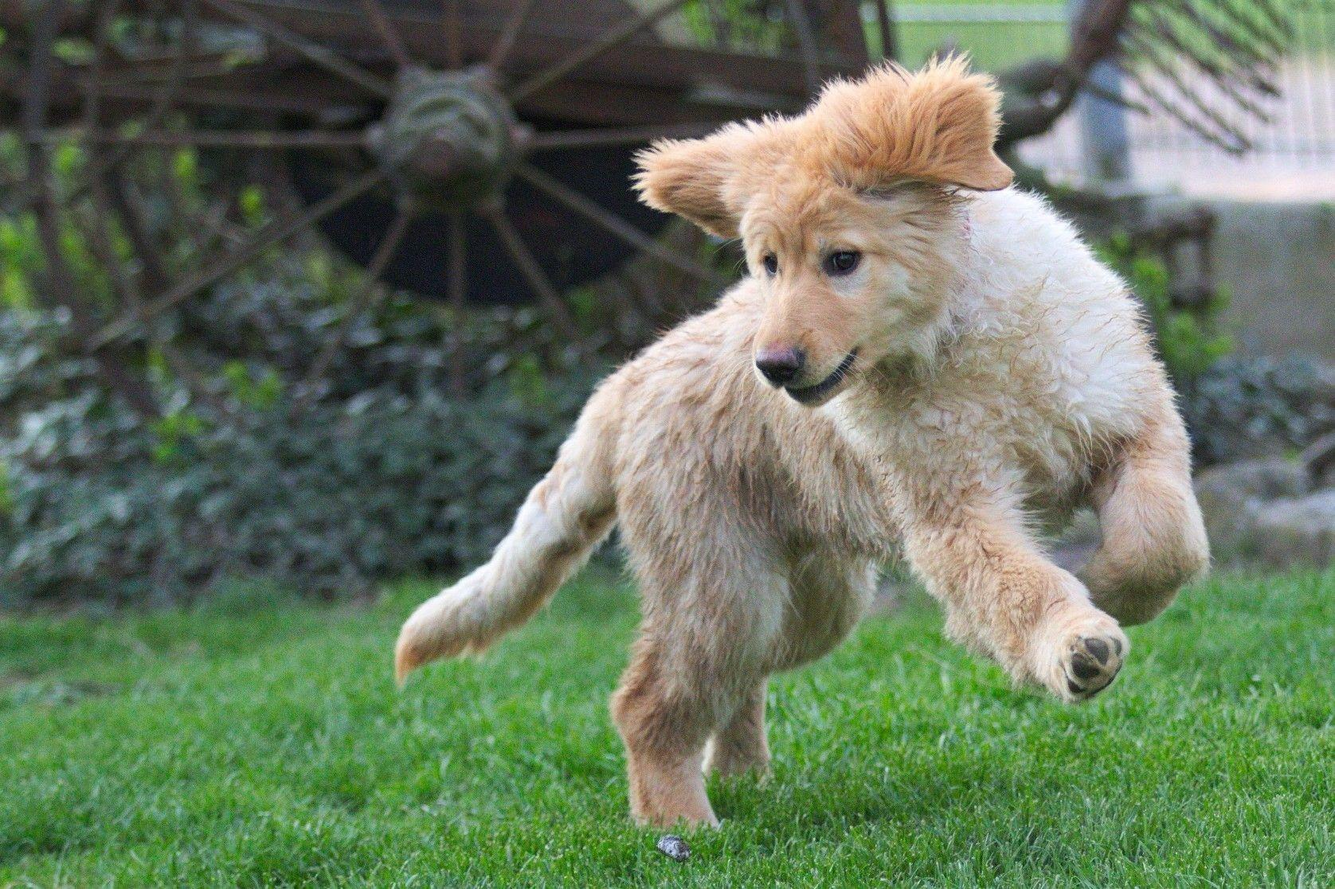puppy-dog: (392, 49, 1214, 832)
